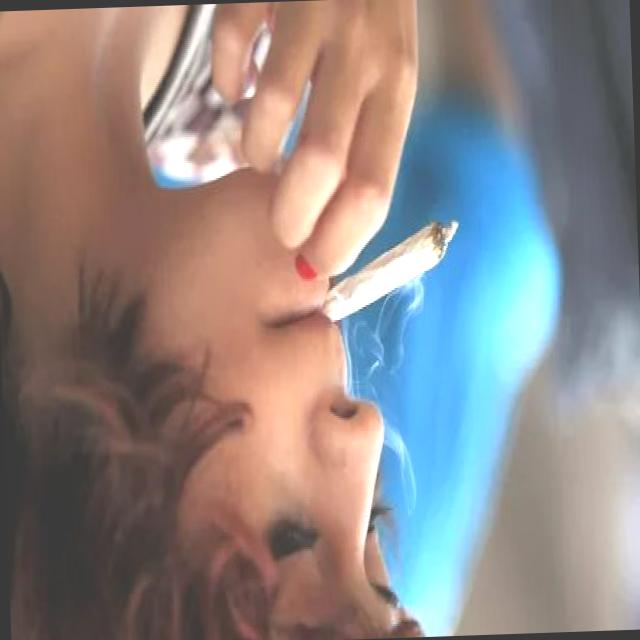smoke: (312, 211, 461, 328)
